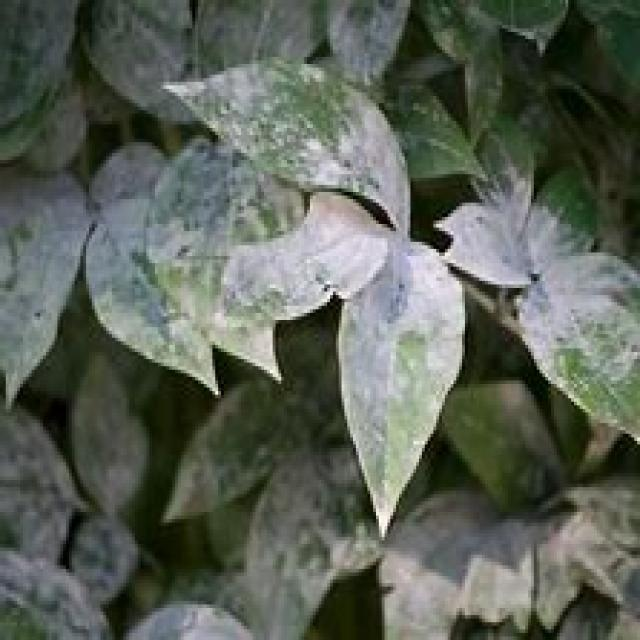Leaf_Mold: (0, 55, 471, 544), (409, 57, 640, 380)
